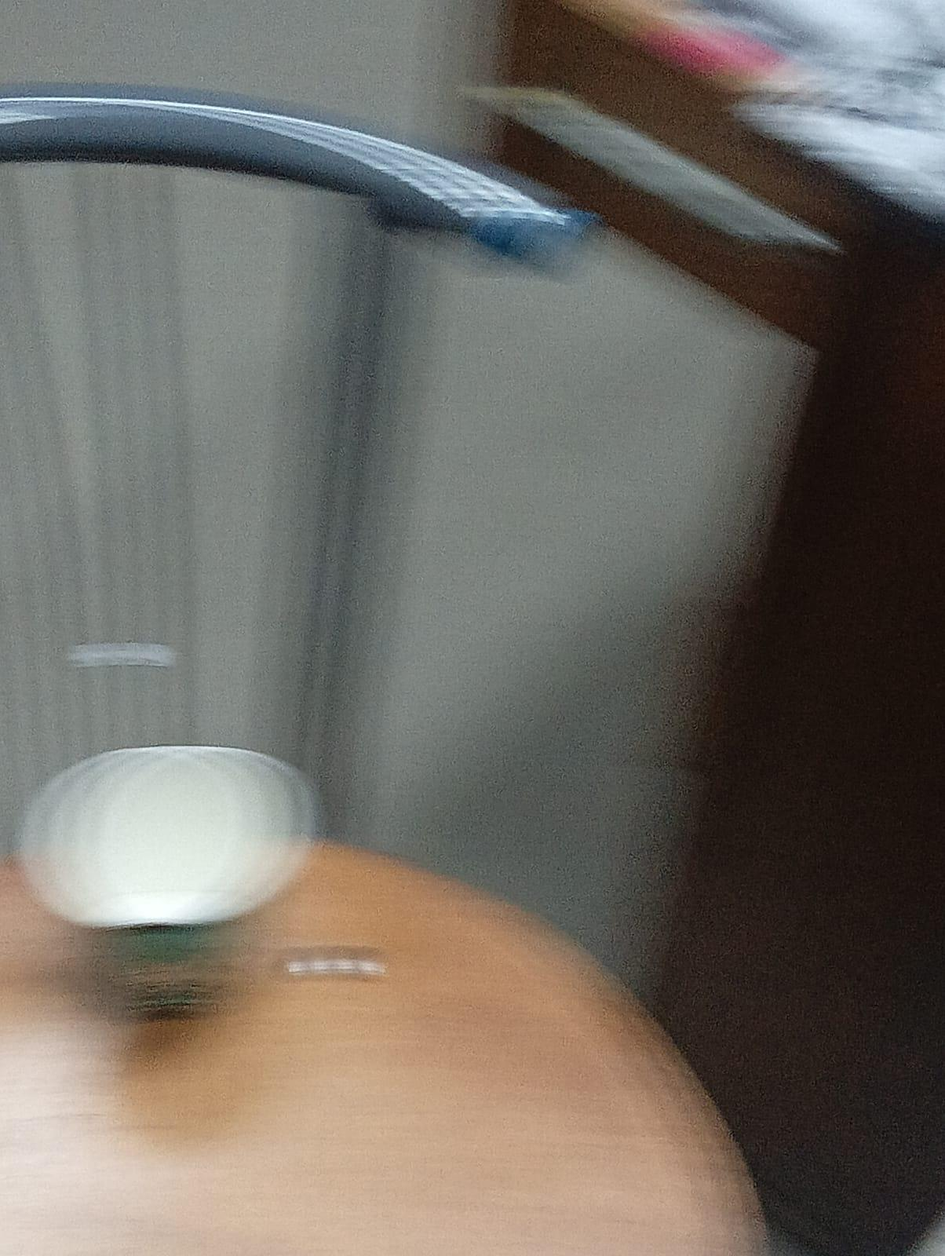cup: (19, 746, 316, 1018)
